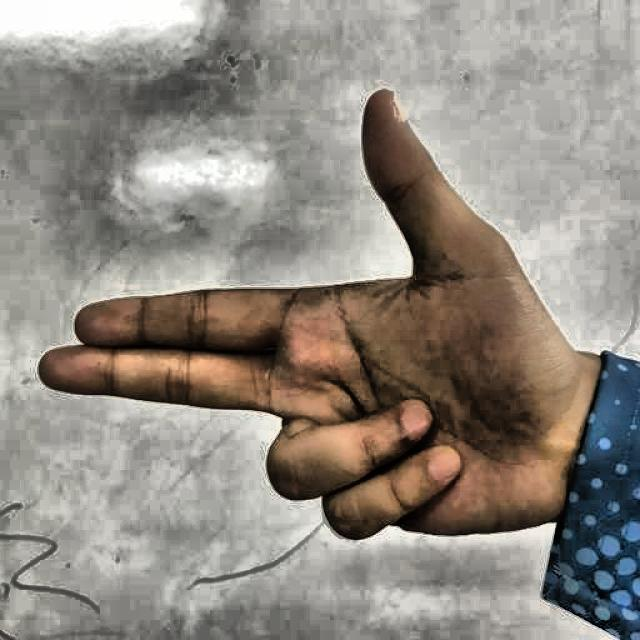Jha: (25, 54, 605, 614)
